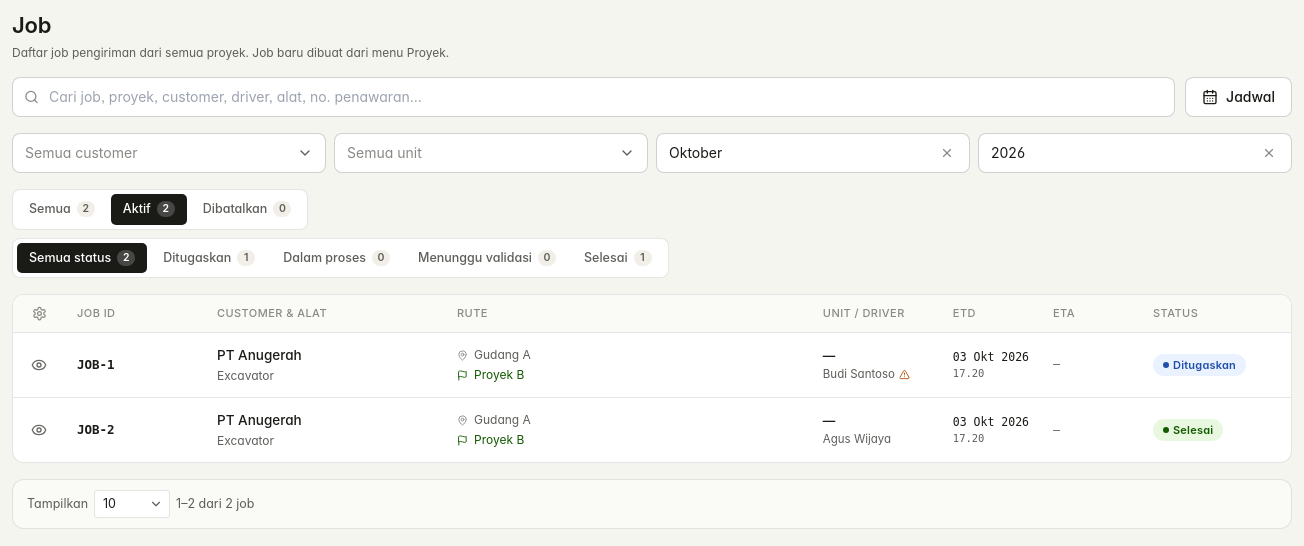
Test: daftar job › pencarian juga mencocokkan nama driver
In the field with placeholder "Cari job, proyek, customer, driver, alat, no. penawaran…": (594, 97) [12,77,1175,117], type "agus"
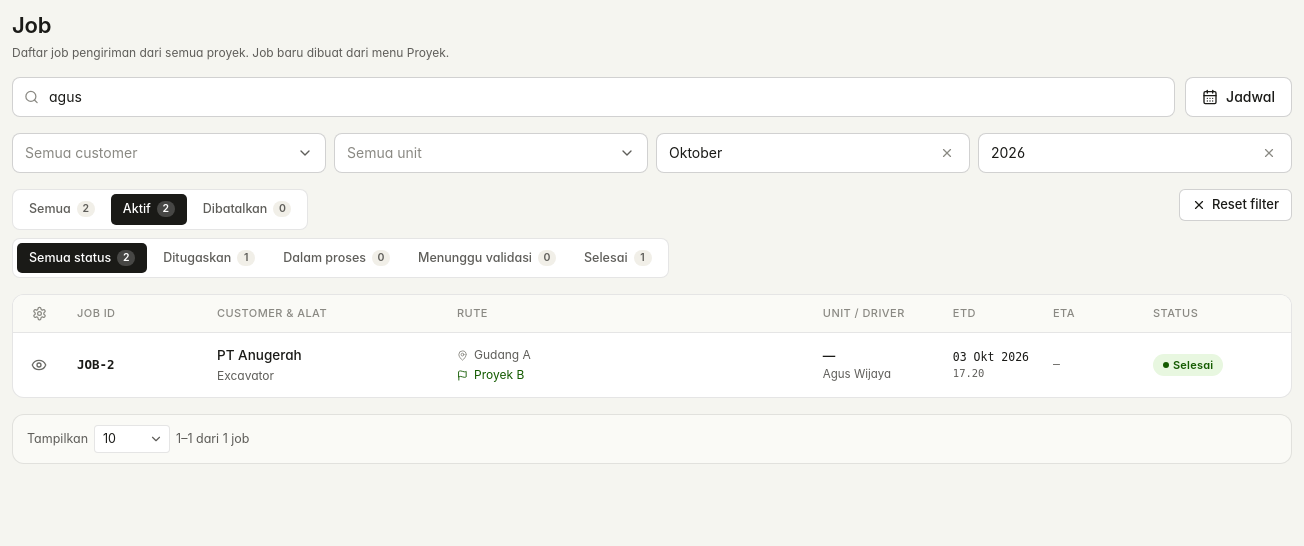
Expected: the text "JOB-2" is shown, [77,357,115,372]
Expected: the text "JOB-1" is gone
